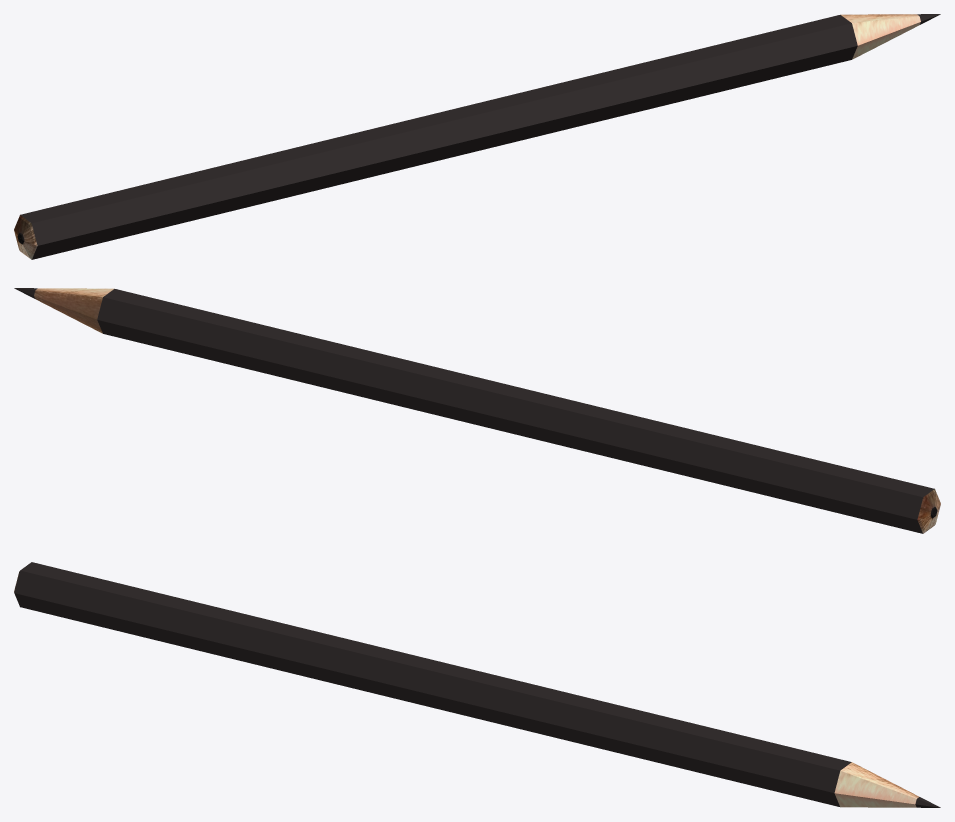
The model's file is Pencil_Black.fbx.
3 views of the same model, one above another, from view 1: azimuth 30°, elevation 25°; view 2: azimuth 150°, elevation 25°; view 3: azimuth 330°, elevation 25° (orthographic).
Visible parts, largest first — view 1: Cylinder; view 2: Cylinder; view 3: Cylinder.
Boxes of the visible parts, <box> form: Cylinder: <box>14,14,940,259</box>; Cylinder: <box>14,288,940,533</box>; Cylinder: <box>14,562,940,807</box>.
Bounding box in the file's own units: 2482 × 94.31 × 109.
